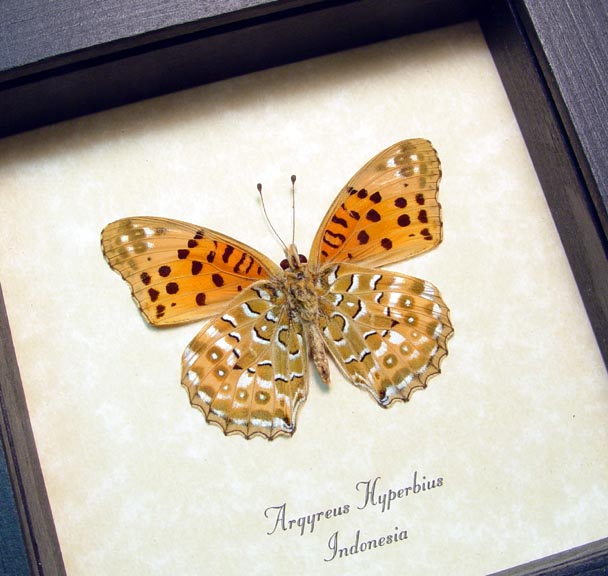Argyreus hyperbius: (95, 130, 457, 442)
butterfly: (97, 132, 459, 444)
